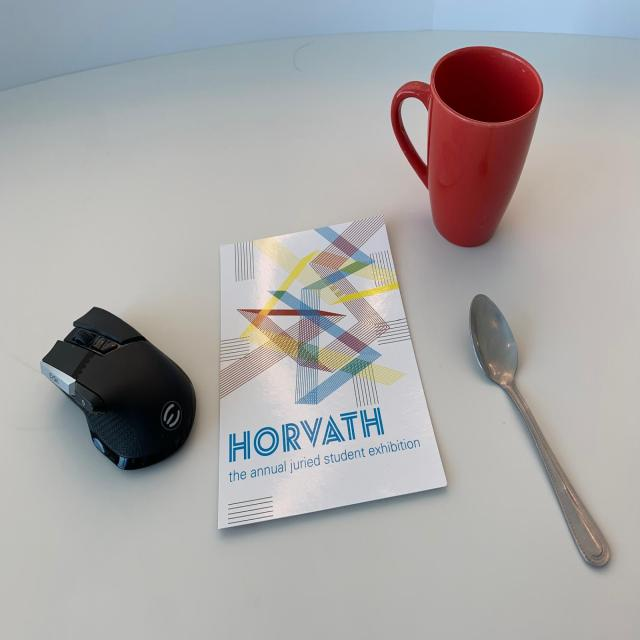Cup: (380, 44, 564, 250)
Mouse: (39, 286, 200, 476)
Spoon: (456, 278, 616, 576)
